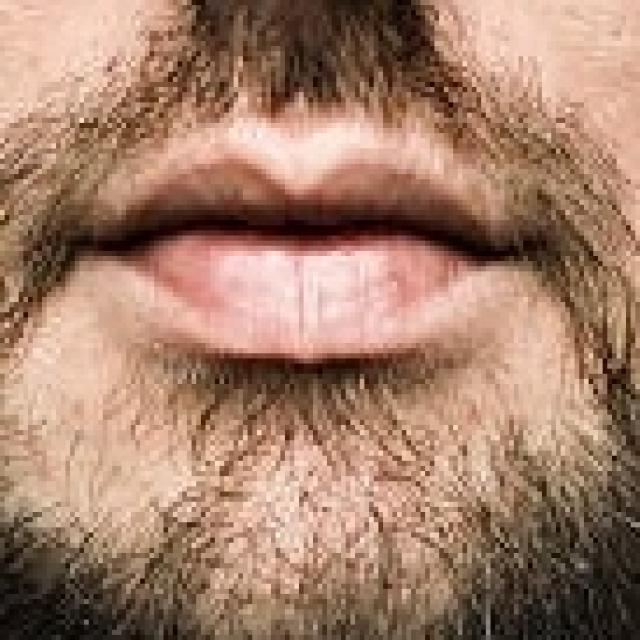closed-mouth: (75, 148, 532, 368)
